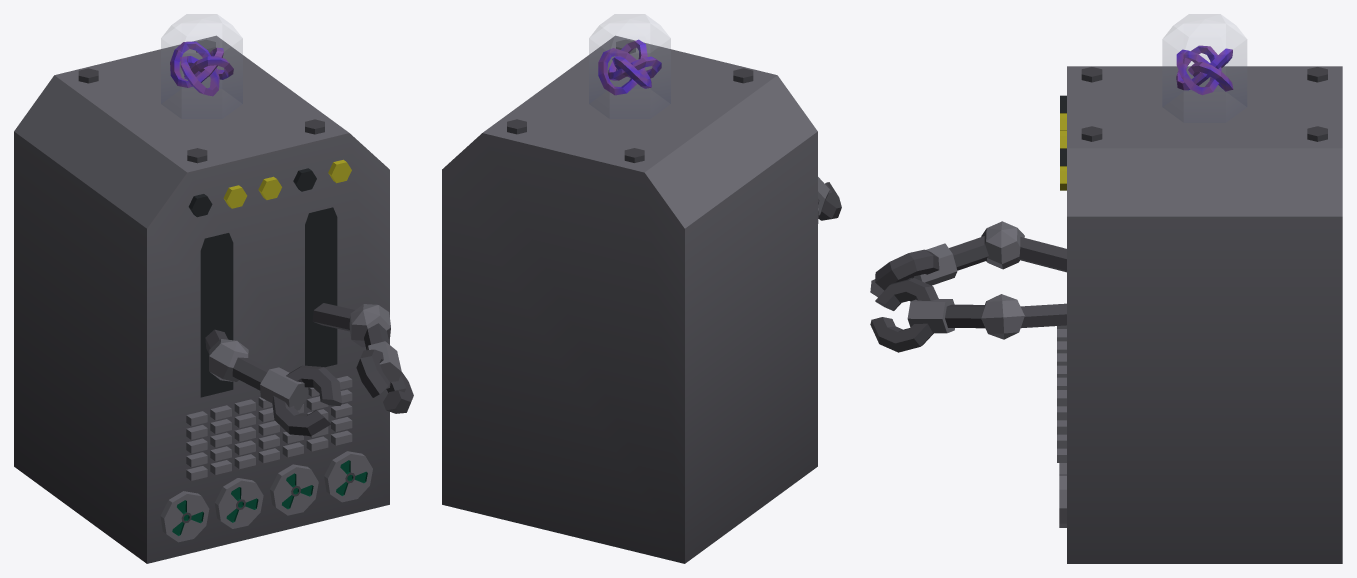
Rendered from PullDownPantsMachine.fbx.
3 renders of one model, left to right at view 1: azimuth 30°, elevation 25°; view 2: azimuth 150°, elevation 25°; view 3: azimuth 270°, elevation 25°, orthographic. The views are drawn at different scales.
Parts seen in each view (by area): view 1: PullDownPantsMachine, PullDownPantsMachine.001; view 2: PullDownPantsMachine, PullDownPantsMachine.001; view 3: PullDownPantsMachine, PullDownPantsMachine.001.
Boxes of the visible parts, box(x1,y1,x2,y2) form: PullDownPantsMachine: box(14, 14, 389, 563); PullDownPantsMachine.001: box(205, 303, 413, 435); PullDownPantsMachine: box(442, 14, 817, 563); PullDownPantsMachine.001: box(818, 177, 841, 223); PullDownPantsMachine: box(1057, 14, 1342, 563); PullDownPantsMachine.001: box(870, 221, 1066, 352).
Size of the model in its own units: 102 by 187 by 166.
